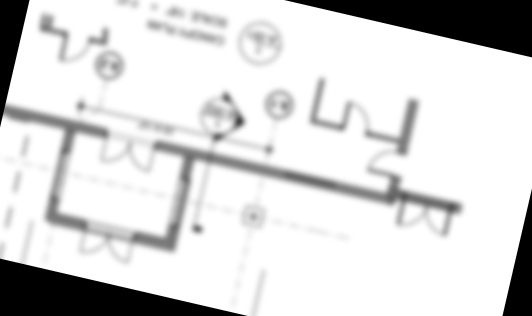door: (338, 97, 376, 136), (57, 31, 92, 68), (366, 145, 401, 178)
double door: (395, 195, 455, 239), (99, 131, 158, 174), (78, 224, 136, 265)
wall: (150, 137, 399, 209), (3, 103, 110, 141), (395, 95, 422, 157), (42, 208, 91, 236), (130, 229, 179, 253), (308, 75, 326, 126), (383, 171, 406, 207), (159, 221, 184, 253), (175, 153, 200, 182), (56, 127, 80, 156), (40, 196, 61, 226), (364, 130, 403, 145), (308, 118, 344, 133)
window: (278, 164, 341, 193), (166, 174, 193, 229), (46, 149, 73, 202)
